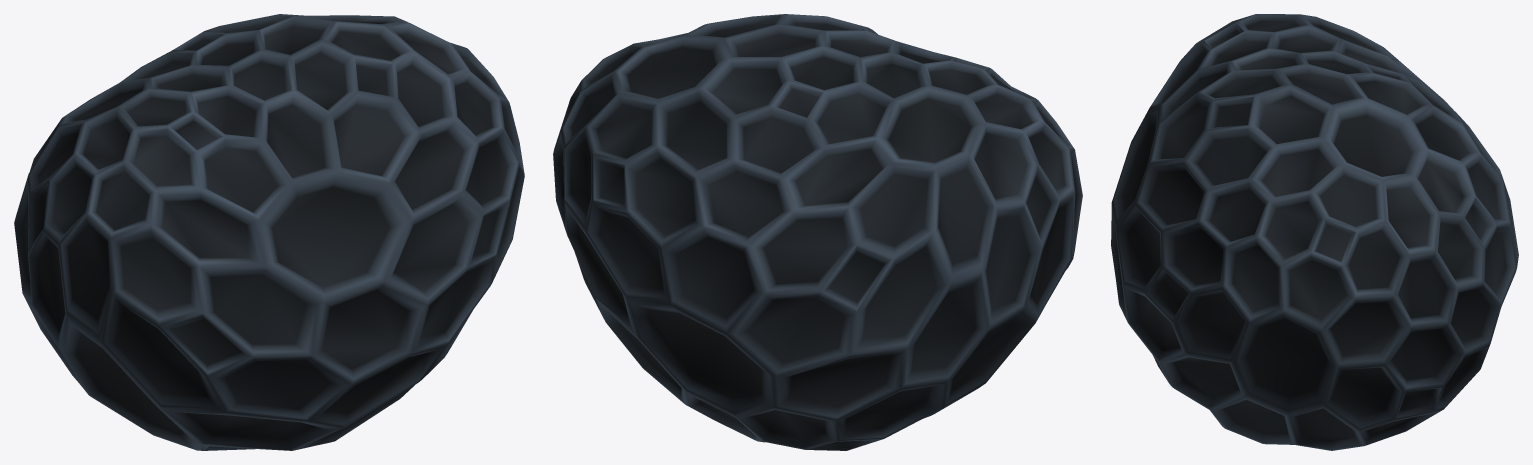
The model's file is trees-seeds-nuts-poppy-seed_v4.fbx.
The picture shows the model from 3 angles, left to right: view 1: azimuth 30°, elevation 25°; view 2: azimuth 150°, elevation 25°; view 3: azimuth 270°, elevation 25°; orthographic projection. The views are drawn at different scales.
Visible parts, largest first — view 1: Poppy Seed_v4; view 2: Poppy Seed_v4; view 3: Poppy Seed_v4.
Boxes of the visible parts, x1,y1,x2,y2 form: Poppy Seed_v4: (14, 14, 524, 450); Poppy Seed_v4: (553, 14, 1082, 450); Poppy Seed_v4: (1111, 14, 1518, 450).
Size of the model in its own units: 0.1 by 0.0782 by 0.0782.
